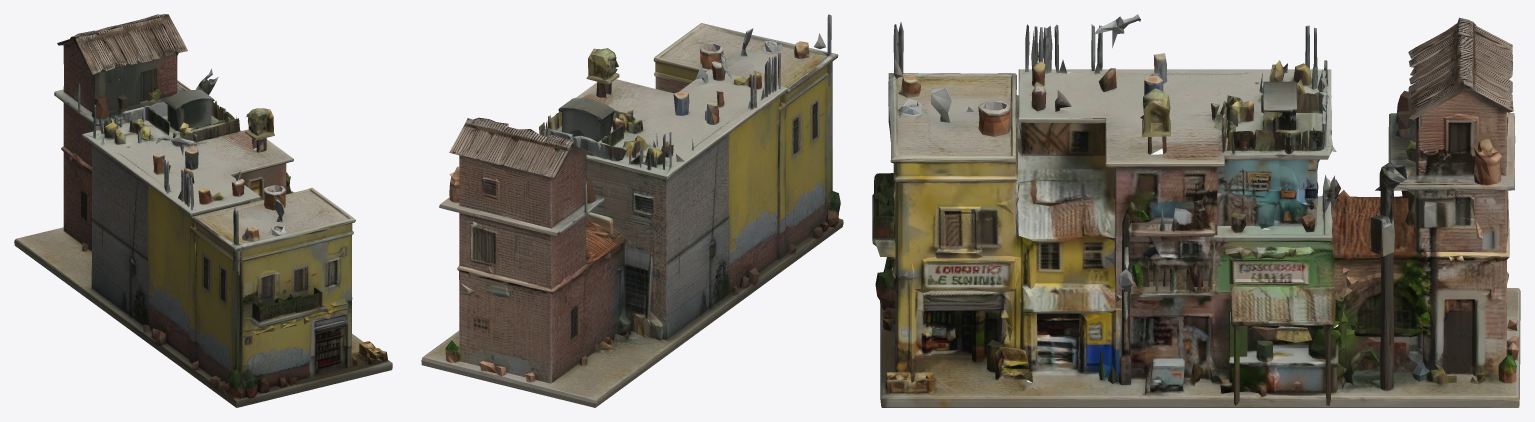
The model's file is casas 2.glb.
3 renders of one model, left to right at view 1: azimuth 30°, elevation 25°; view 2: azimuth 150°, elevation 25°; view 3: azimuth 270°, elevation 25°, orthographic. The views are drawn at different scales.
Parts seen in each view (by area): view 1: tripo_node_f3b7ffff-ce3e-4466-b028-e60abf38aa9f; view 2: tripo_node_f3b7ffff-ce3e-4466-b028-e60abf38aa9f; view 3: tripo_node_f3b7ffff-ce3e-4466-b028-e60abf38aa9f.
Part boxes in pixels (bbox=[...]): tripo_node_f3b7ffff-ce3e-4466-b028-e60abf38aa9f: bbox=[14, 14, 392, 407]; tripo_node_f3b7ffff-ce3e-4466-b028-e60abf38aa9f: bbox=[421, 14, 843, 407]; tripo_node_f3b7ffff-ce3e-4466-b028-e60abf38aa9f: bbox=[872, 14, 1520, 407].
Bounding box in the file's own units: 0.4451 × 0.5287 × 1.
Materials: 1 (1 with a texture image).
